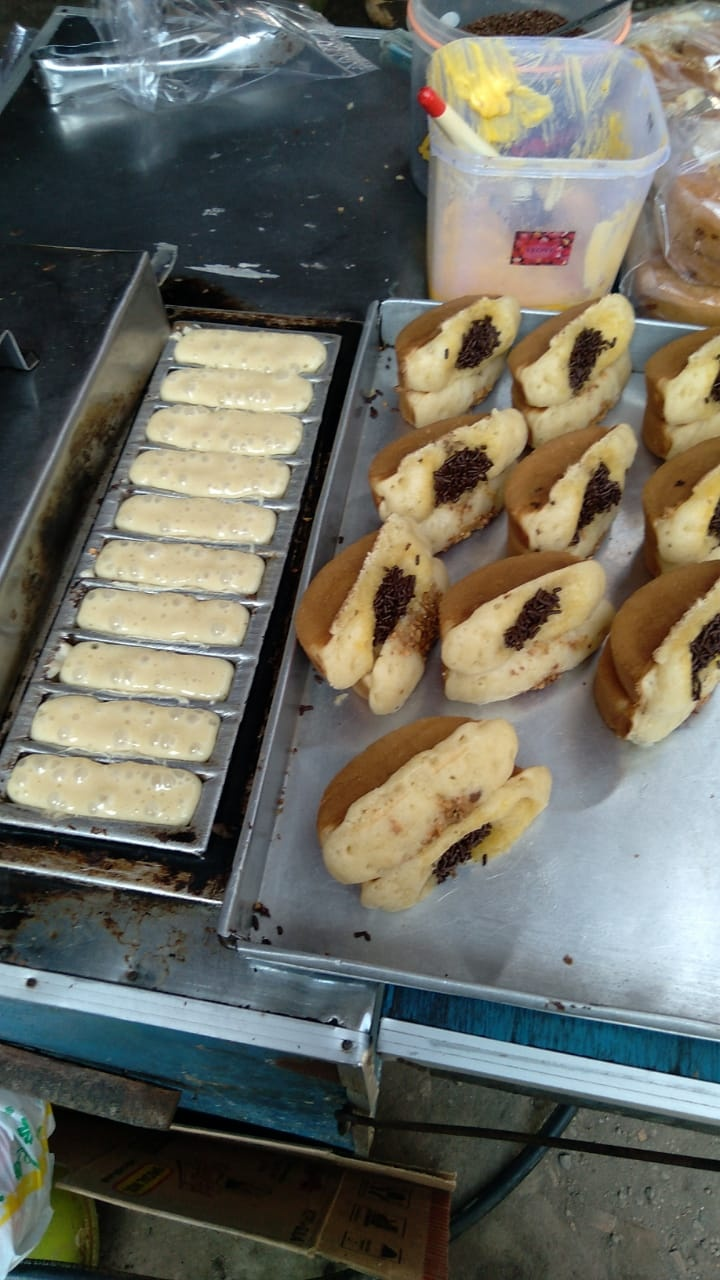pukis: (283, 701, 521, 857), (264, 500, 430, 682)
